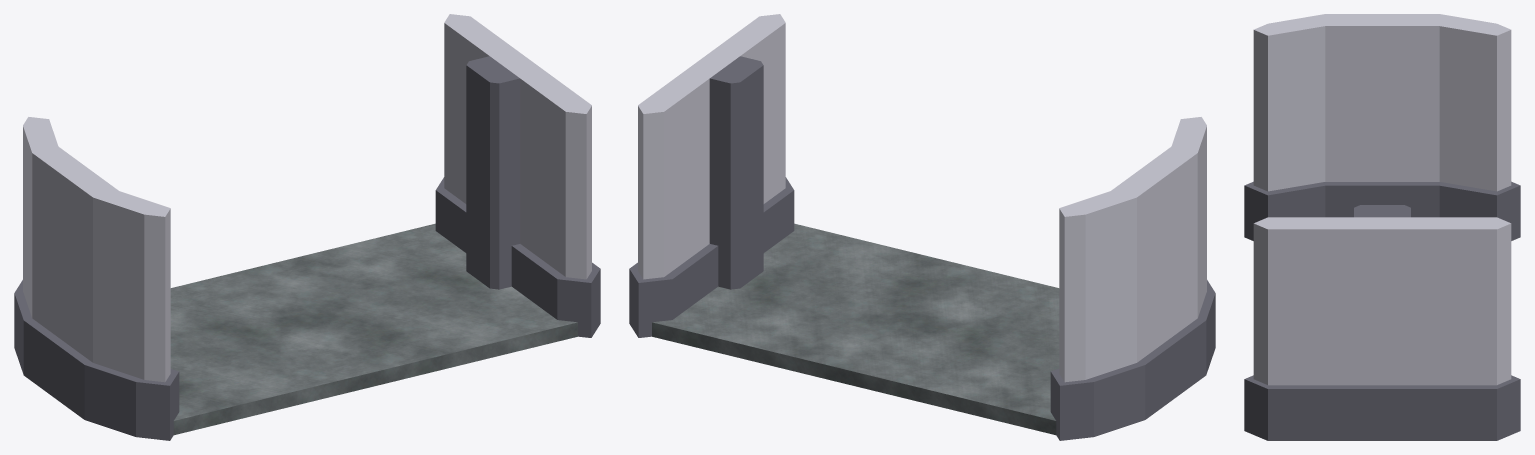
Rendered from hallway_short_03.fbx.
3 renders of one model, left to right at view 1: azimuth 30°, elevation 25°; view 2: azimuth 150°, elevation 25°; view 3: azimuth 270°, elevation 25°, orthographic. The views are drawn at different scales.
Parts seen in each view (by area): view 1: floor_05_99, wall_03_101, wall_02_100; view 2: floor_05_99, wall_03_101, wall_02_100; view 3: wall_02_100, wall_03_101.
Boxes of the visible parts, bbox=[...] form: floor_05_99: bbox=[170, 223, 577, 435]; wall_03_101: bbox=[14, 117, 179, 440]; wall_02_100: bbox=[435, 14, 600, 337]; floor_05_99: bbox=[652, 223, 1059, 435]; wall_03_101: bbox=[1050, 117, 1215, 440]; wall_02_100: bbox=[629, 14, 794, 337]; wall_02_100: bbox=[1244, 205, 1520, 440]; wall_03_101: bbox=[1244, 14, 1520, 240].
Bounding box in the file's own units: 23.05 × 10 × 12.05.
